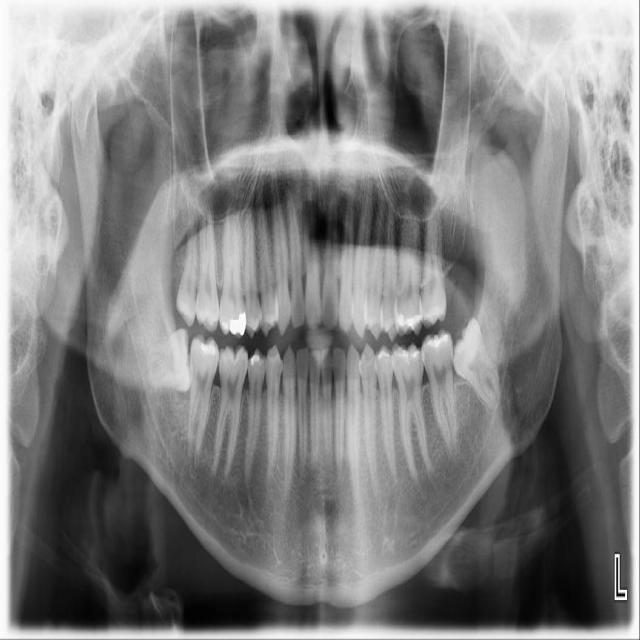Filling: (223, 310, 247, 337), (395, 311, 422, 333), (425, 334, 451, 356), (201, 341, 218, 355), (249, 352, 260, 365)
impacted tooth: (453, 317, 503, 409), (146, 328, 191, 390)
